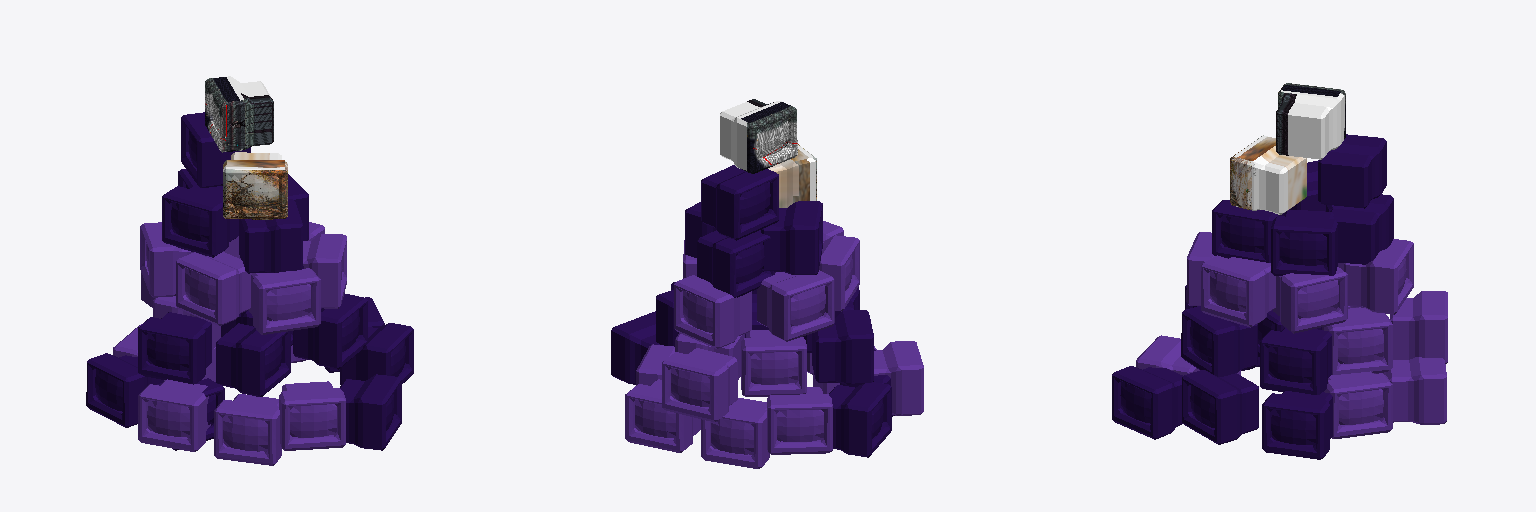
3 renders of one model, left to right at view 1: azimuth 30°, elevation 25°; view 2: azimuth 150°, elevation 25°; view 3: azimuth 270°, elevation 25°, orthographic.
Visible parts, largest first — view 1: Tv.007, Tv.011, Tv.033, Tv.030, Tv.008, Tv.031, Tv.027, Tv.024, Tv.026, Tv.012, Tv.028, Tv.009 (+9 smaller); view 2: Tv.033, Tv.032, Tv.006, Tv.014, Tv.013, Tv.022, Tv.007, Tv.005, Tv.016, Tv.024, Tv.015, Tv.023 (+9 smaller); view 3: Tv.033, Tv.021, Tv.026, Tv.001, Tv.028, Tv.019, Tv.004, Tv.032, Tv.025, Tv.009, Tv.010, Tv.018 (+9 smaller).
Boxes of the visible parts, box(x1,y1,x2,y2) form: Tv.007: box(138, 312, 211, 384); Tv.011: box(176, 252, 251, 325); Tv.033: box(205, 76, 273, 152); Tv.030: box(138, 379, 210, 451); Tv.008: box(216, 323, 290, 396); Tv.031: box(279, 381, 345, 450); Tv.027: box(214, 394, 281, 465); Tv.024: box(162, 185, 238, 257); Tv.026: box(223, 152, 287, 219); Tv.012: box(249, 268, 320, 334); Tv.028: box(340, 374, 401, 450); Tv.009: box(293, 293, 367, 369); Tv.033: box(720, 99, 797, 173); Tv.032: box(701, 165, 778, 240); Tv.006: box(662, 348, 737, 421); Tv.014: box(757, 270, 834, 341); Tv.013: box(674, 275, 751, 348); Tv.022: box(767, 387, 832, 454); Tv.007: box(812, 310, 873, 384); Tv.005: box(741, 330, 806, 396); Tv.016: box(829, 382, 891, 457); Tv.024: box(761, 201, 822, 274); Tv.015: box(701, 398, 769, 468); Tv.023: box(697, 230, 774, 297); Tv.033: box(1276, 83, 1345, 159); Tv.021: box(1182, 370, 1258, 444); Tv.026: box(1230, 135, 1306, 214); Tv.001: box(1201, 255, 1275, 327); Tv.028: box(1112, 366, 1182, 439); Tv.019: box(1262, 391, 1332, 459); Tv.004: box(1260, 327, 1331, 394); Tv.032: box(1318, 134, 1386, 208); Tv.025: box(1271, 209, 1337, 275); Tv.009: box(1181, 306, 1257, 376); Tv.010: box(1273, 267, 1347, 333); Tv.018: box(1324, 371, 1392, 438).
Size of the model in its own units: 3.61 by 4.01 by 3.85.
4 materials, 2 textured.